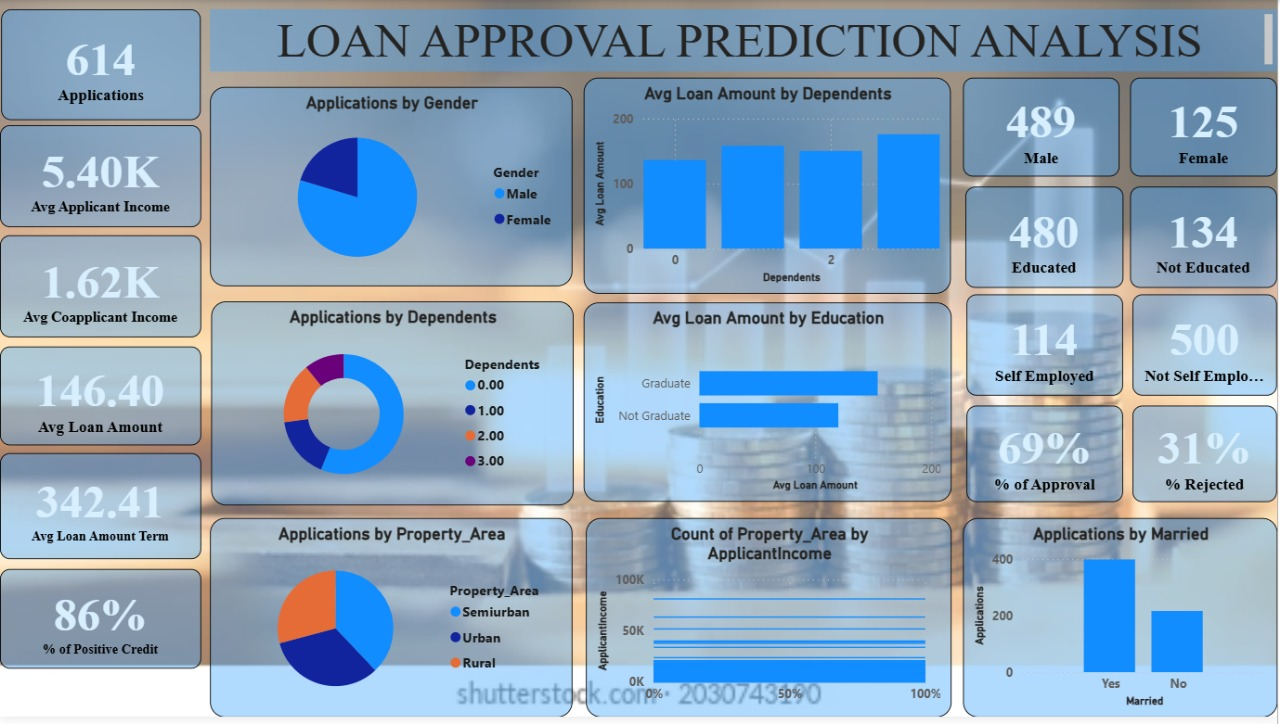

The dashboard page shown, as its layout file describes it:
{"tool":"powerbi","page":{"name":"Page 1","canvas":[1280,720],"ordinal":0},"visuals":[{"type":"card","fields":{"Values":["All Measures.Applications"]},"box":[1.2,9.7,200.3,111],"z":0},{"type":"card","fields":{"Values":["All Measures.Avg Coapplicant Income"]},"box":[0,236.5,201.5,102.5],"z":1000},{"type":"card","fields":{"Values":["All Measures.Avg Loan Amount"]},"box":[0,347.5,201.5,98.9],"z":2000},{"type":"card","fields":{"Values":["All Measures.Avg Loan Amount Term"]},"box":[0,454.8,201.5,106.2],"z":3000},{"type":"card","fields":{"Values":["All Measures.% of Approval"]},"box":[968.8,406.6,156.8,96.5],"z":4000},{"type":"card","fields":{"Values":["All Measures.% of Positive Credit"]},"box":[0,570.6,201.5,100.1],"z":5000},{"type":"textbox","box":[209.9,9.7,1070.1,62.7],"z":6000},{"type":"barChart","fields":{"Y":["All Measures.Avg Loan Amount"],"Category":["Loan Prediction Dataset.Education"]},"box":[584.6,303.3,369.1,200.3],"z":7000},{"type":"lineStackedColumnComboChart","fields":{"Category":["Loan Prediction Dataset.Dependents"],"Y":["All Measures.Avg Loan Amount"]},"box":[585.1,78.4,368,217.2],"z":8000},{"type":"hundredPercentStackedBarChart","fields":{"Category":["Loan Prediction Dataset.ApplicantIncome"],"Y":["CountNonNull(Loan Prediction Dataset.Property_Area)"]},"box":[587.5,520,366.8,200.3],"z":9000},{"type":"card","fields":{"Values":["All Measures.Male"]},"box":[965.2,78.4,156.8,98.9],"z":10000},{"type":"card","fields":{"Values":["All Measures.Female"]},"box":[1132.8,78.4,147.2,98.9],"z":11000},{"type":"card","fields":{"Values":["All Measures.Education"]},"box":[967.6,187,158,101.3],"z":12000},{"type":"card","fields":{"Values":["All Measures.Not Educated"]},"box":[1132.8,187,147.2,101.3],"z":13000},{"type":"card","fields":{"Values":["All Measures.Self Employed"]},"box":[968.8,295.6,156.8,101.3],"z":14000},{"type":"card","fields":{"Values":["All Measures.Not Self Employed"]},"box":[1135.3,295.6,144.8,101.3],"z":15000},{"type":"card","fields":{"Values":["All Measures.% Rejected"]},"box":[1135.3,406.6,144.8,96.5],"z":16000},{"type":"card","fields":{"Values":["All Measures.Avg Applicant Income"]},"box":[0,125.5,201.5,102.5],"z":17000},{"type":"pieChart","fields":{"Category":["Loan Prediction Dataset.Gender"],"Y":["All Measures.Applications"]},"box":[209.9,86.9,363.1,200.3],"z":18000},{"type":"pieChart","fields":{"Y":["All Measures.Applications"],"Category":["Loan Prediction Dataset.Property_Area"]},"box":[209.9,520,363.1,200.3],"z":19000},{"type":"donutChart","fields":{"Category":["Loan Prediction Dataset.Dependents"],"Y":["All Measures.Applications"]},"box":[211.1,302.8,363.1,205.1],"z":20000},{"type":"clusteredColumnChart","fields":{"Category":["Loan Prediction Dataset.Married"],"Y":["All Measures.Applications"]},"box":[965.2,520,314.9,200.3],"z":21000}]}

Visuals, with their boxes in screenshot pixels (x1, y1, x2, y2), scaled from the page's 1280x720 canvas onto the 1280x724 screenshot:
card - All Measures.Applications: (left=1, top=10, right=202, bottom=121)
card - All Measures.Avg Coapplicant Income: (left=0, top=238, right=202, bottom=341)
card - All Measures.Avg Loan Amount: (left=0, top=349, right=202, bottom=449)
card - All Measures.Avg Loan Amount Term: (left=0, top=457, right=202, bottom=564)
card - All Measures.% of Approval: (left=969, top=409, right=1126, bottom=506)
card - All Measures.% of Positive Credit: (left=0, top=574, right=202, bottom=674)
textbox: (left=210, top=10, right=1279, bottom=73)
barChart - All Measures.Avg Loan Amount x Loan Prediction Dataset.Education: (left=585, top=305, right=954, bottom=506)
lineStackedColumnComboChart - Loan Prediction Dataset.Dependents x All Measures.Avg Loan Amount: (left=585, top=79, right=953, bottom=297)
hundredPercentStackedBarChart - Loan Prediction Dataset.ApplicantIncome x CountNonNull(Loan Prediction Dataset.Property_Area): (left=588, top=523, right=954, bottom=723)
card - All Measures.Male: (left=965, top=79, right=1122, bottom=178)
card - All Measures.Female: (left=1133, top=79, right=1279, bottom=178)
card - All Measures.Education: (left=968, top=188, right=1126, bottom=290)
card - All Measures.Not Educated: (left=1133, top=188, right=1279, bottom=290)
card - All Measures.Self Employed: (left=969, top=297, right=1126, bottom=399)
card - All Measures.Not Self Employed: (left=1135, top=297, right=1279, bottom=399)
card - All Measures.% Rejected: (left=1135, top=409, right=1279, bottom=506)
card - All Measures.Avg Applicant Income: (left=0, top=126, right=202, bottom=229)
pieChart - Loan Prediction Dataset.Gender x All Measures.Applications: (left=210, top=87, right=573, bottom=289)
pieChart - All Measures.Applications x Loan Prediction Dataset.Property_Area: (left=210, top=523, right=573, bottom=723)
donutChart - Loan Prediction Dataset.Dependents x All Measures.Applications: (left=211, top=304, right=574, bottom=511)
clusteredColumnChart - Loan Prediction Dataset.Married x All Measures.Applications: (left=965, top=523, right=1279, bottom=723)
